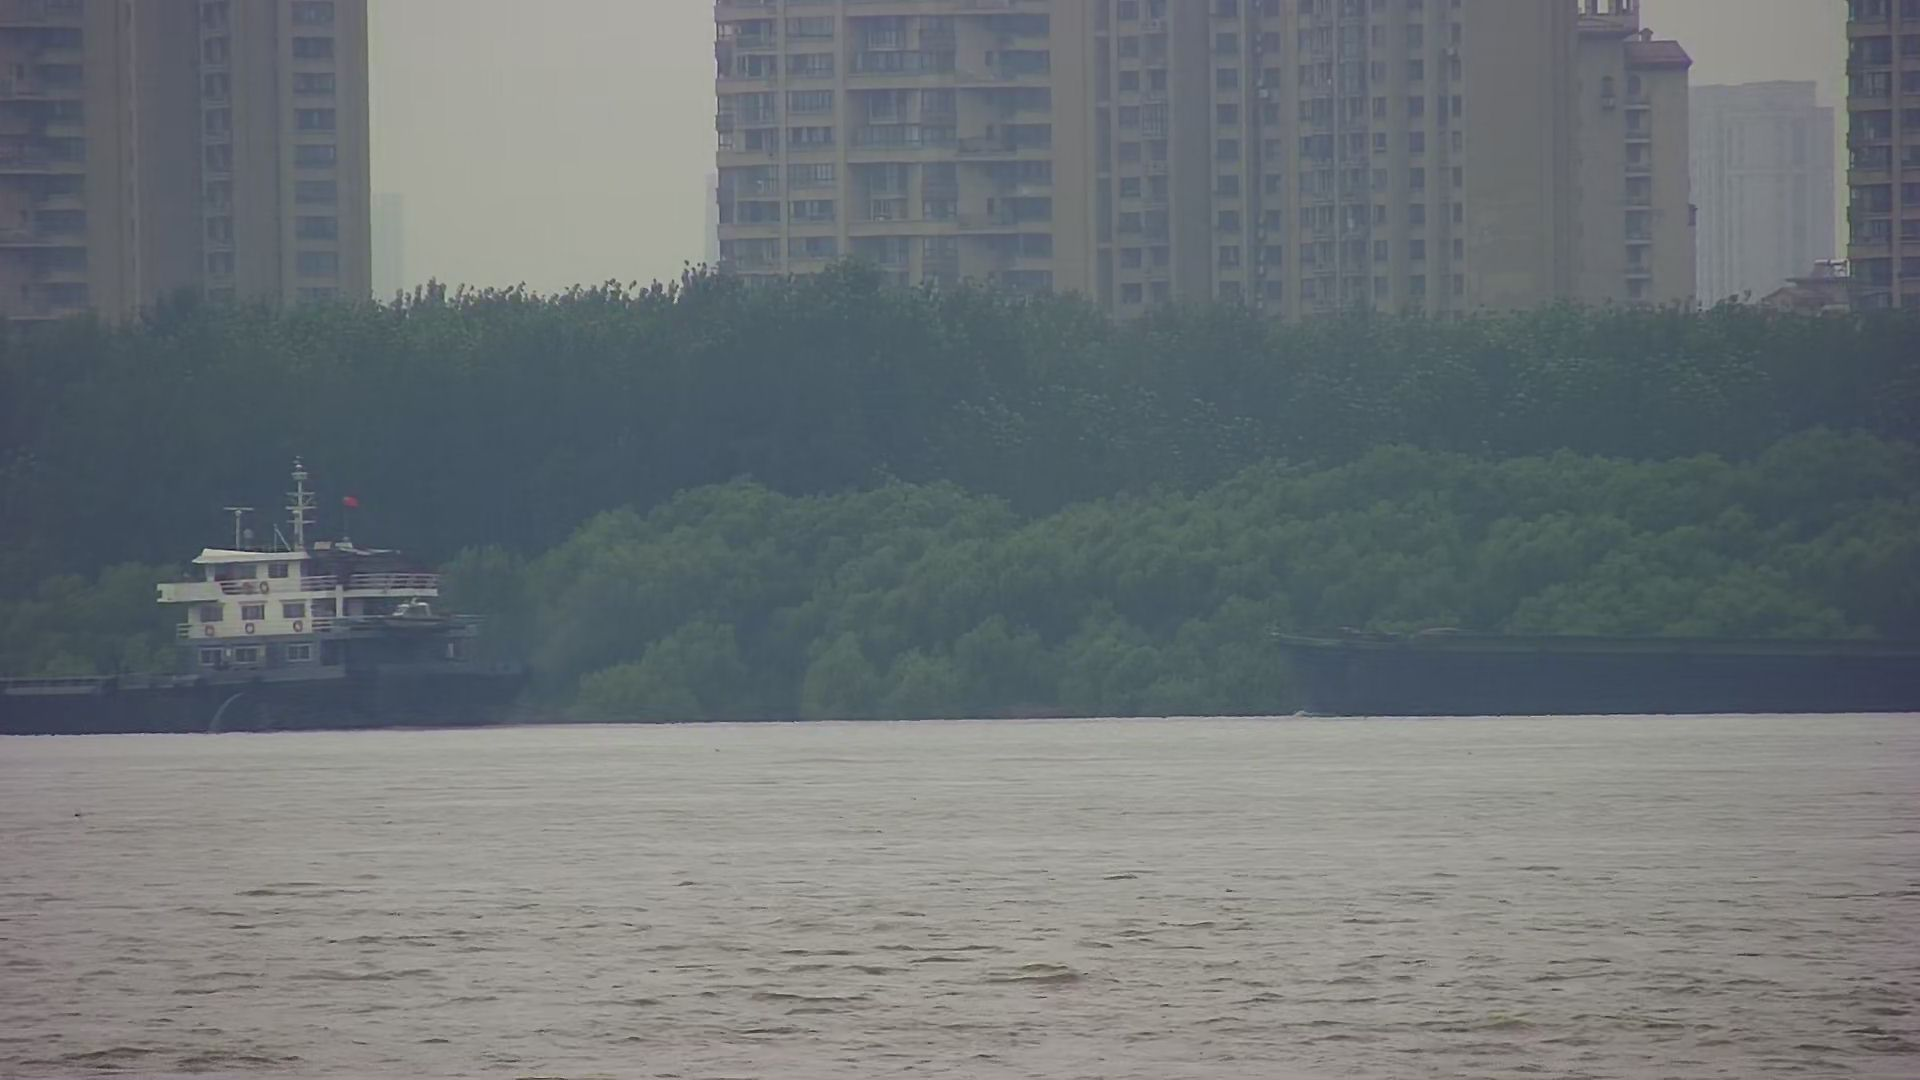ship: (1, 450, 562, 736), (1271, 613, 1920, 717)
